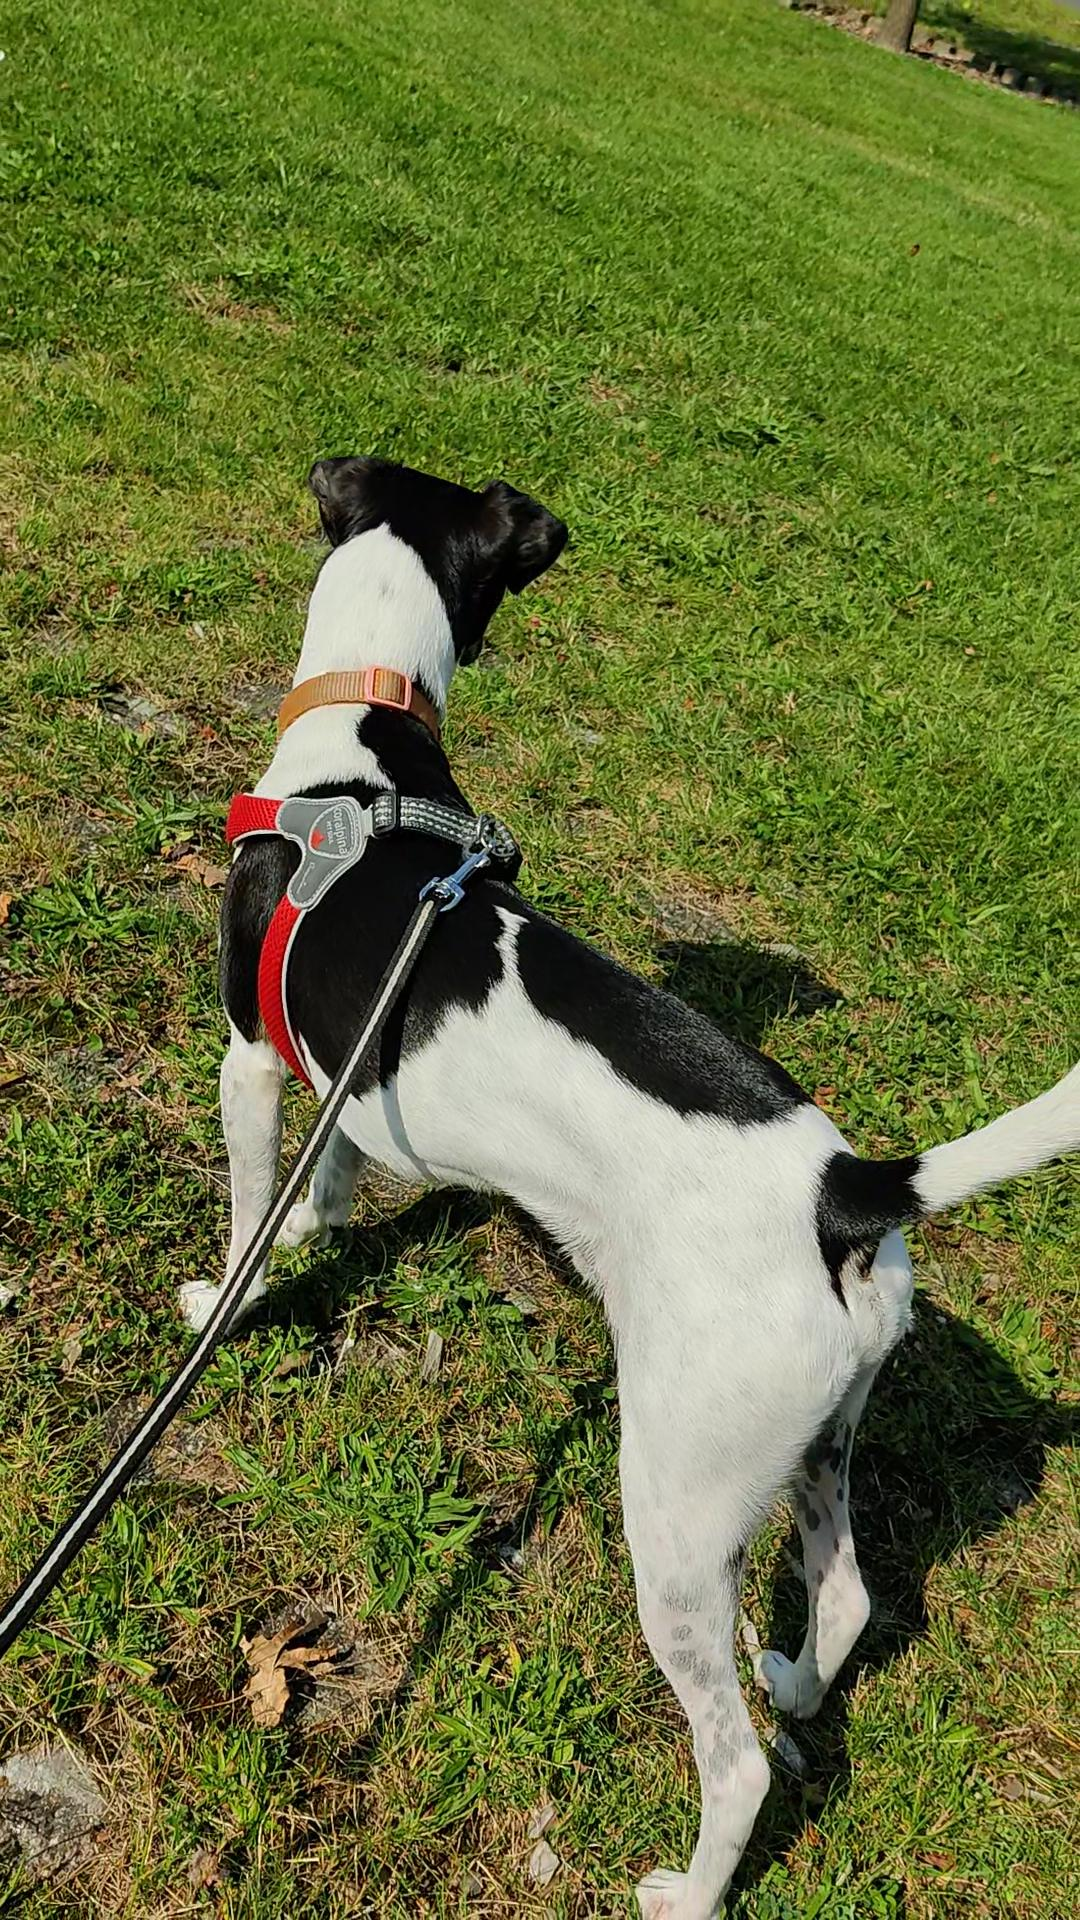Dog: (169, 433, 1079, 1919)
